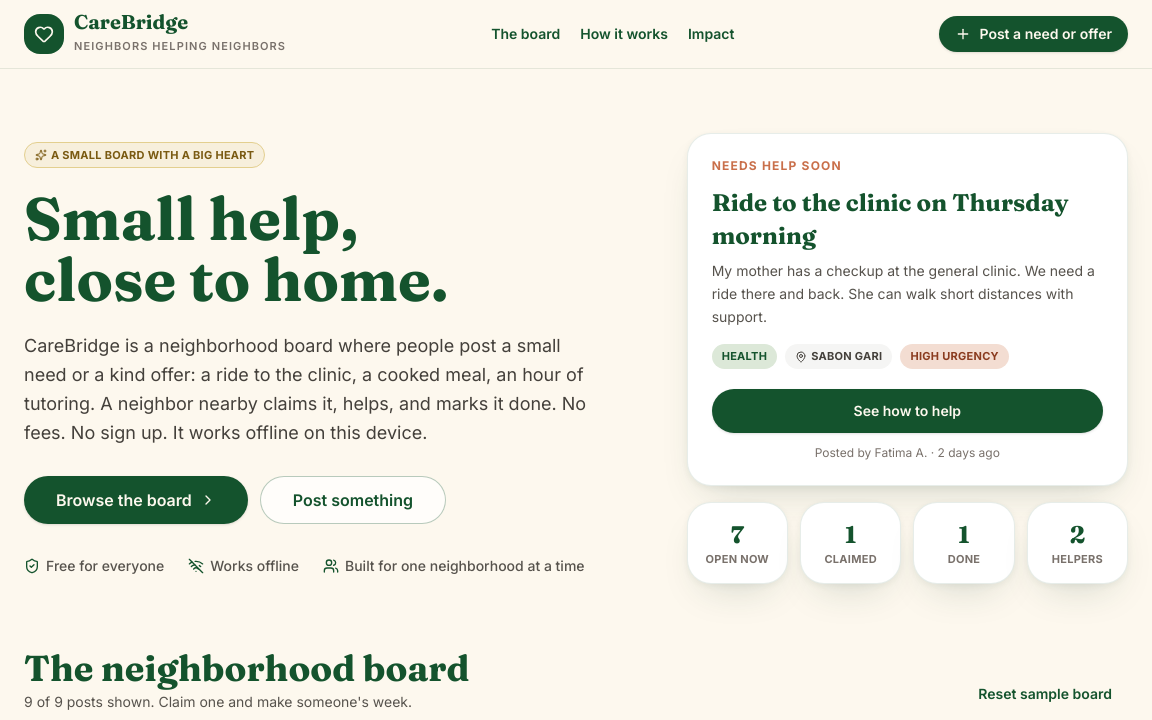
Test: CareBridge app › opens the post form and validates empty fields
Click the button "Post a need or offer": (1034,34) [940,16,1128,52]
(page scrolled)
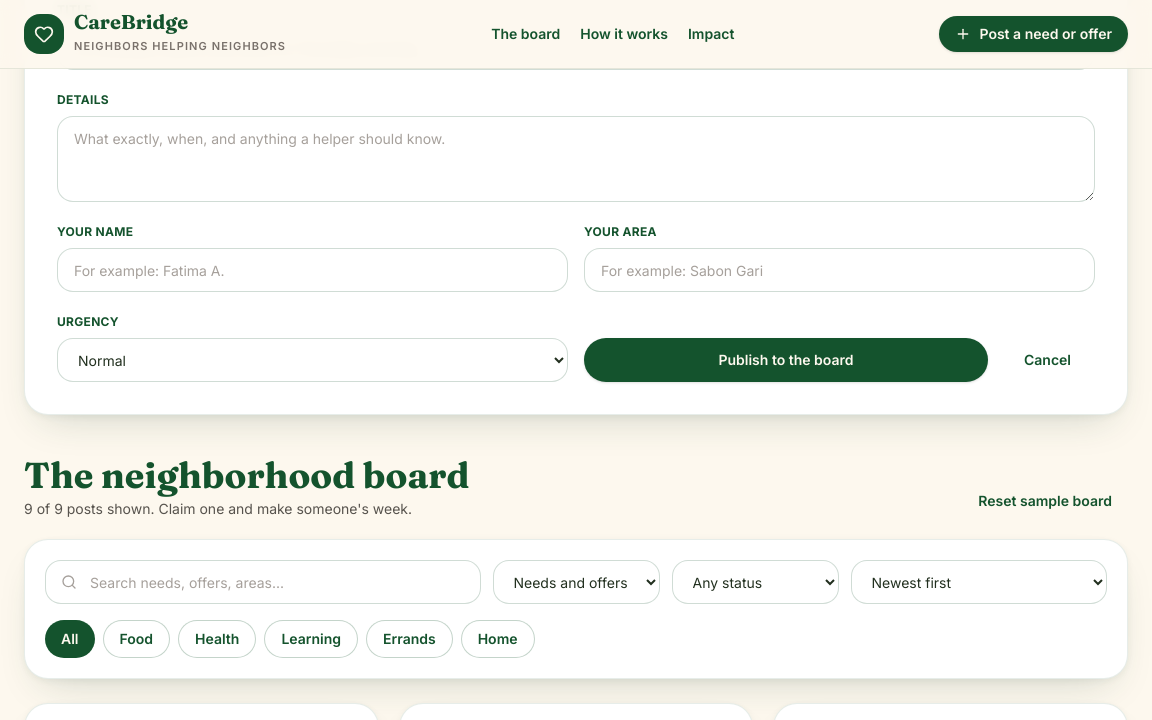
Click the button "Publish to the board": (786,360) [584,338,988,382]
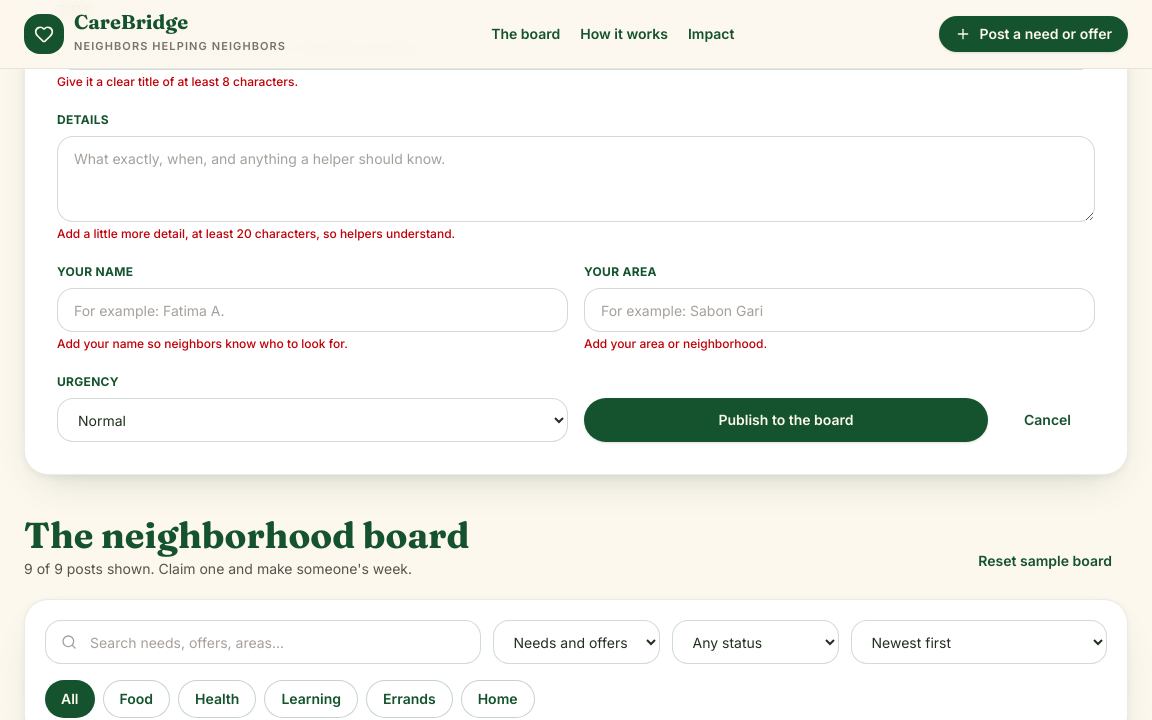
Now the text "Give it a clear title of at least 8 characters." is shown, box [57,74,298,89]
